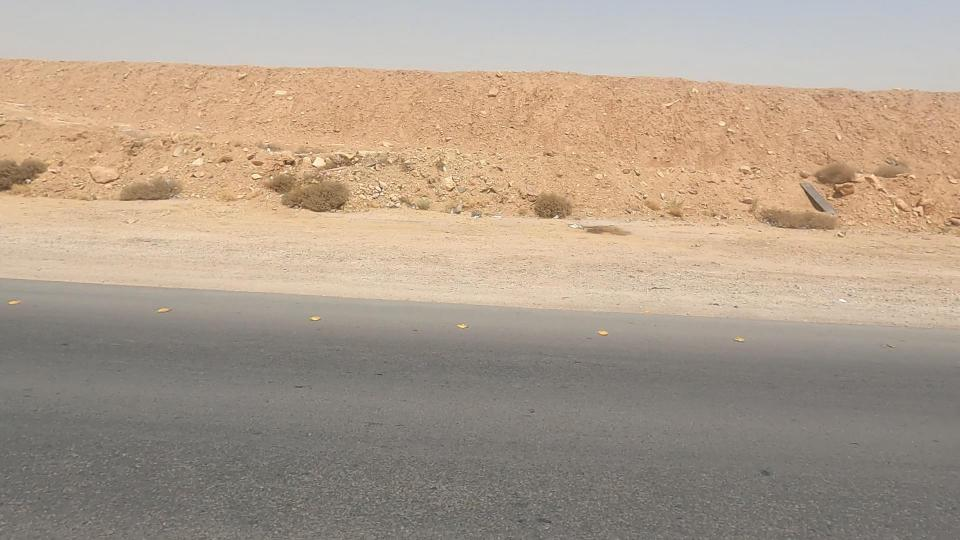GARBAGE: (762, 138, 876, 253), (423, 184, 539, 241), (512, 190, 617, 249)
